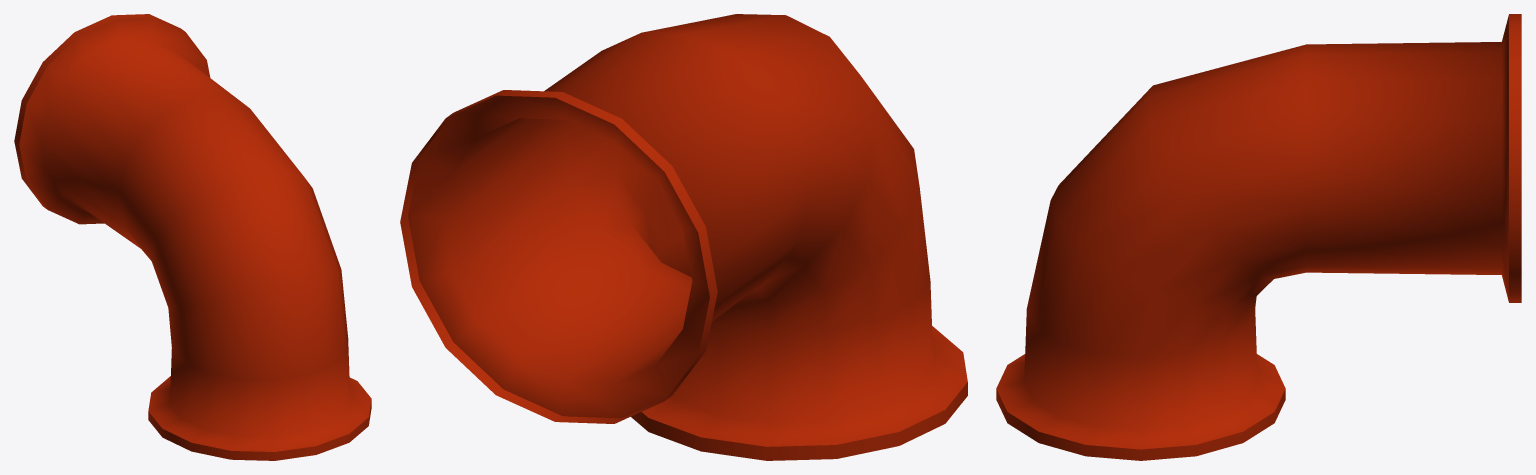
The model's file is Pipe_16_LOD0.FBX.
3 renders of one model, left to right at view 1: azimuth 30°, elevation 25°; view 2: azimuth 150°, elevation 25°; view 3: azimuth 270°, elevation 25°, orthographic. The views are drawn at different scales.
Visible parts, largest first — view 1: Pipe_up1_016_LOD0; view 2: Pipe_up1_016_LOD0; view 3: Pipe_up1_016_LOD0.
Part boxes in pixels (x1=…): Pipe_up1_016_LOD0: x1=14, y1=14, x2=371, y2=460; Pipe_up1_016_LOD0: x1=400, y1=14, x2=967, y2=460; Pipe_up1_016_LOD0: x1=996, y1=14, x2=1521, y2=460.
Size of the model in its own units: 38 by 53.97 by 68.99.
